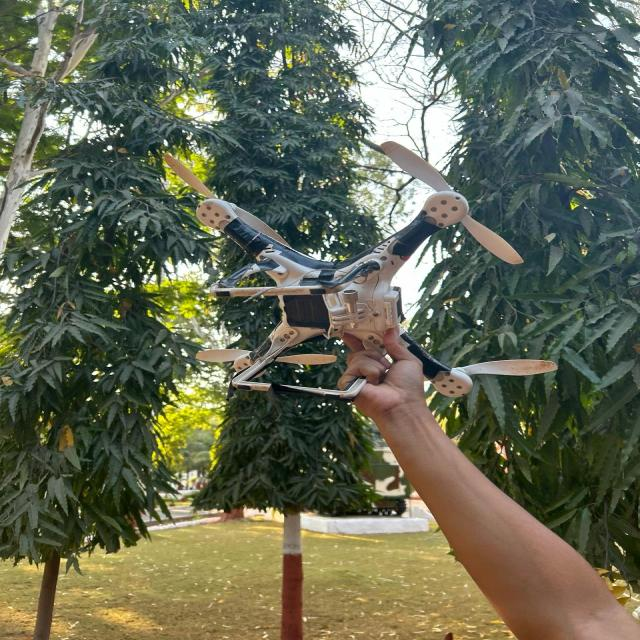drone: (120, 139, 580, 441)
